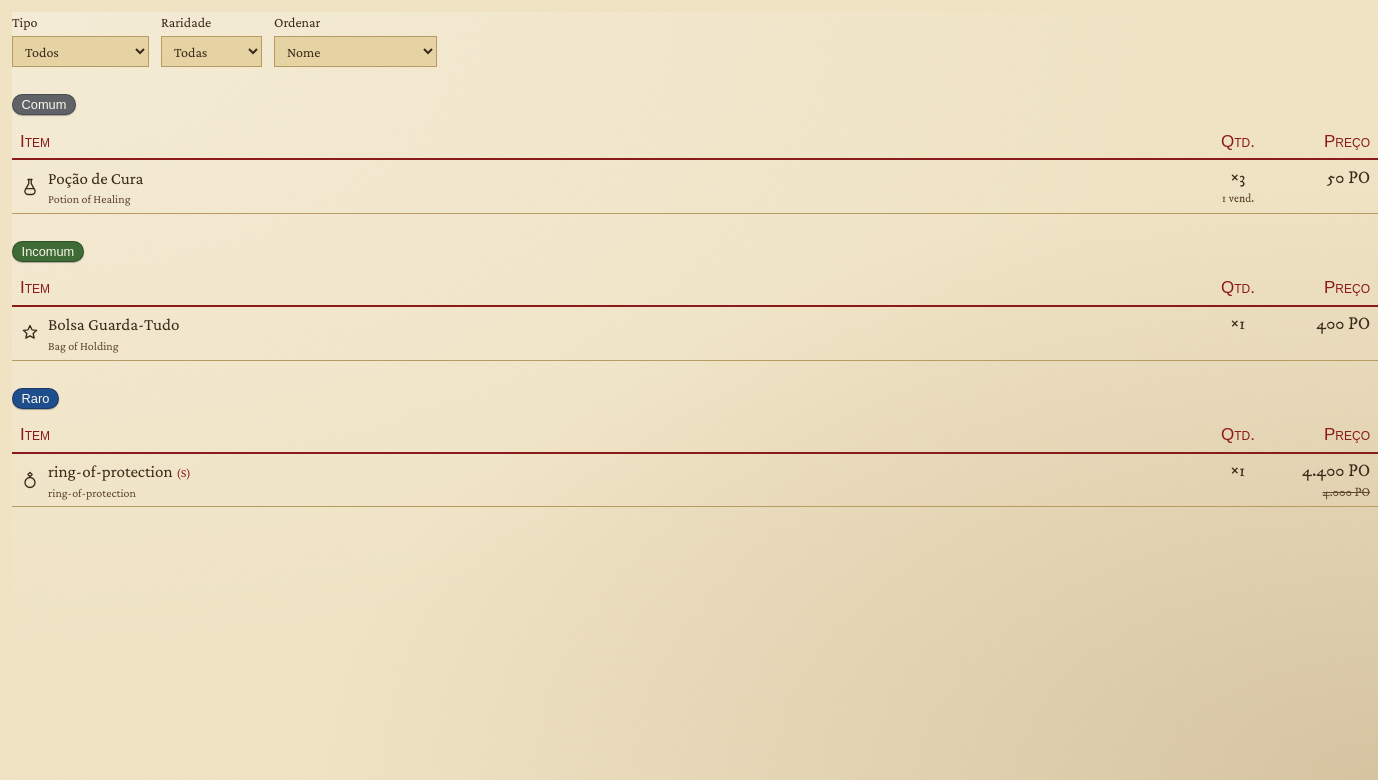
Test: ItemList › avisa quando o filtro esvazia a lista
Select "Cajado" in the dropdown labelled "Tipo" at (80, 52), box [12,36,149,67]
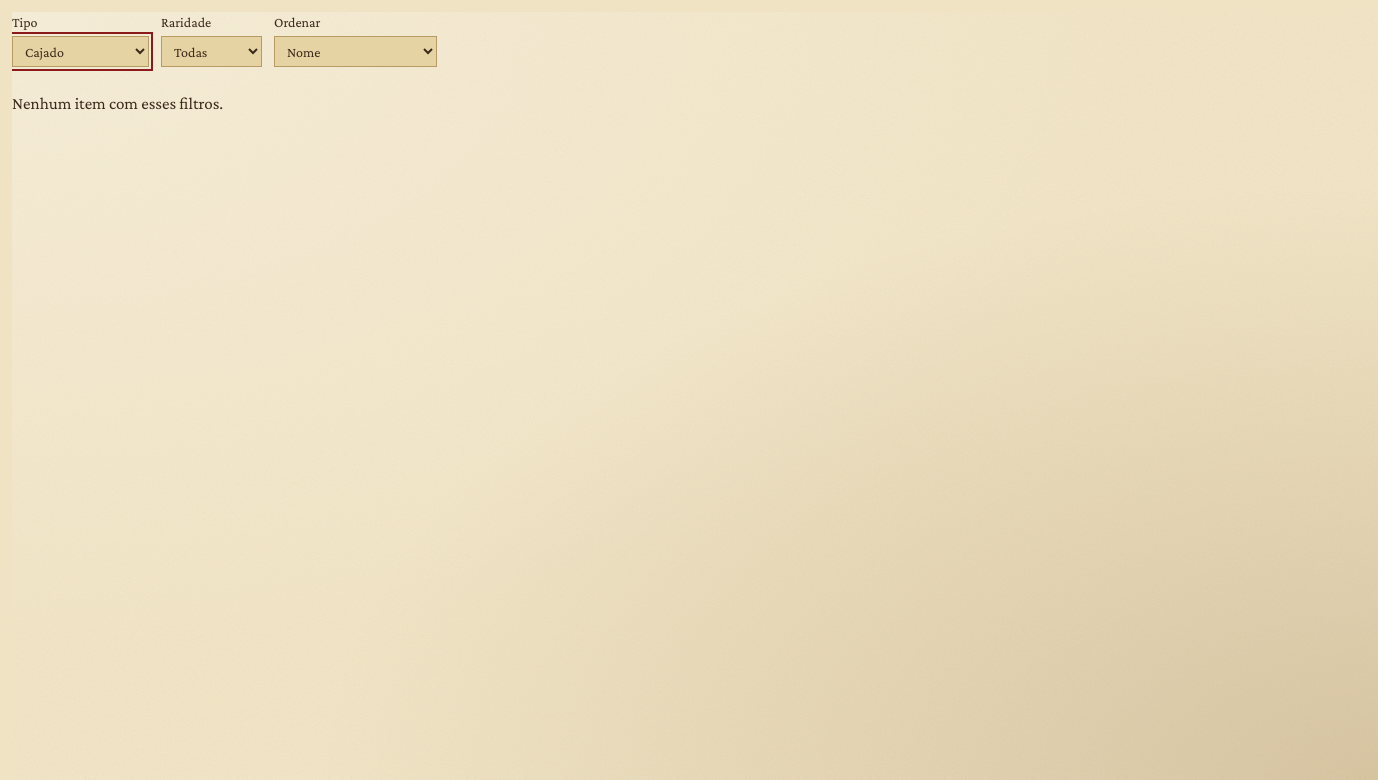
Result: the text "Nenhum item com esses filtros." is shown at [12,94,223,113]
